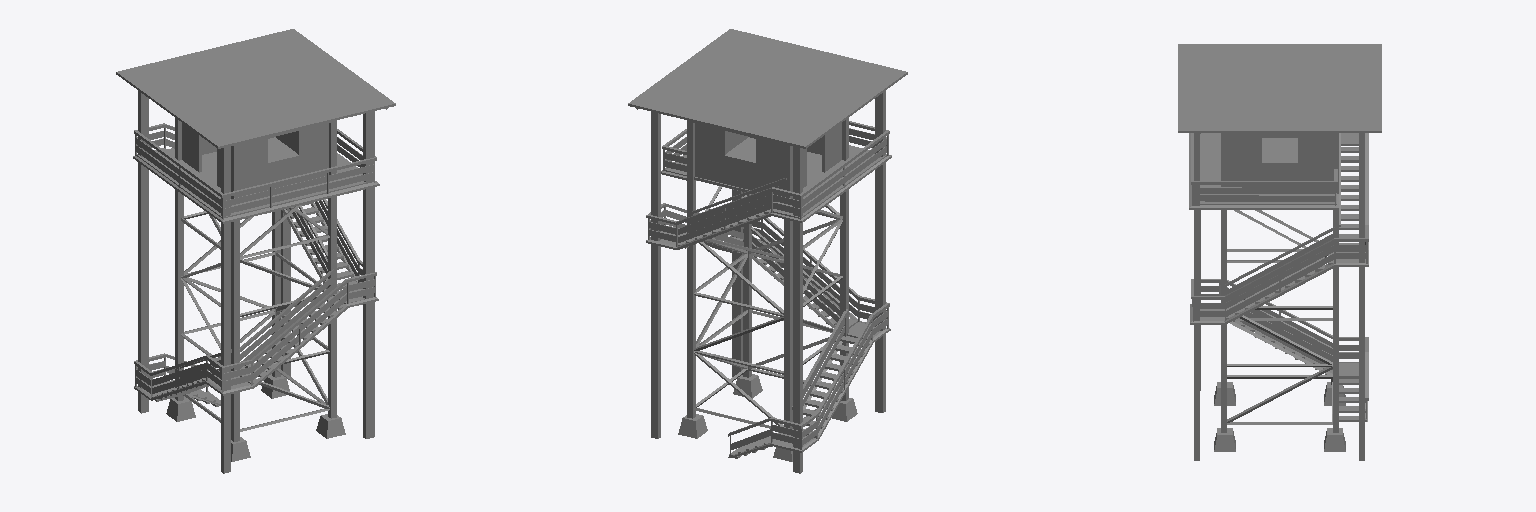
File: torreMadera.obj
The picture shows the model from 3 angles: view 1: azimuth 30°, elevation 25°; view 2: azimuth 150°, elevation 25°; view 3: azimuth 270°, elevation 25°; orthographic projection.
Parts seen in each view (by area): view 1: default; view 2: default; view 3: default.
Boxes of the visible parts, box(x1,y1,x2,y2) form: default: box(116, 29, 395, 473); default: box(628, 29, 907, 473); default: box(1178, 44, 1381, 460).
Bounding box in the file's own units: 4.22 × 7.65 × 4.22.